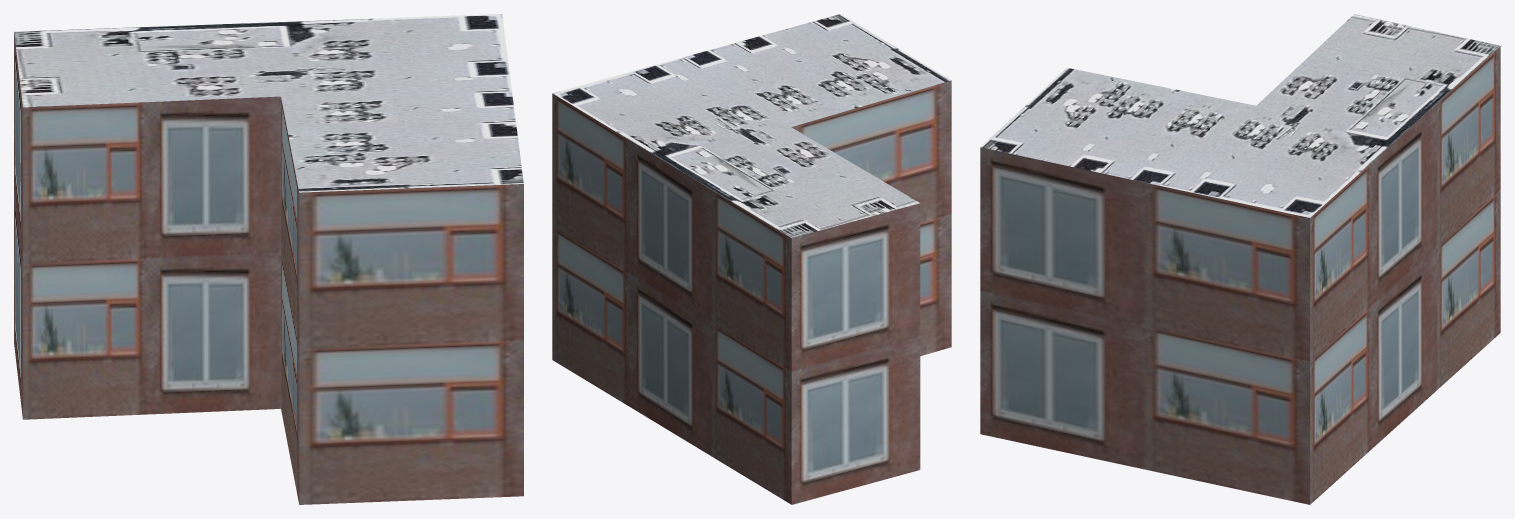
The model's file is ResTex__1987.fbx.
3 renders of one model, left to right at view 1: azimuth 30°, elevation 25°; view 2: azimuth 150°, elevation 25°; view 3: azimuth 270°, elevation 25°, orthographic. The views are drawn at different scales.
Parts seen in each view (by area): view 1: CityEngineMaterial_19_m, CityEngineMaterial_15_m; view 2: CityEngineMaterial_19_m, CityEngineMaterial_15_m; view 3: CityEngineMaterial_19_m, CityEngineMaterial_15_m.
Part boxes in pixels (x1=…): CityEngineMaterial_19_m: x1=14, y1=32, x2=523, y2=504; CityEngineMaterial_15_m: x1=14, y1=14, x2=523, y2=192; CityEngineMaterial_19_m: x1=552, y1=80, x2=951, y2=504; CityEngineMaterial_15_m: x1=553, y1=14, x2=951, y2=237; CityEngineMaterial_19_m: x1=980, y1=46, x2=1500, y2=504; CityEngineMaterial_15_m: x1=980, y1=14, x2=1500, y2=217.
Size of the model in its own units: 9.15 by 6 by 9.87.
Materials: 2 (2 with a texture image).
